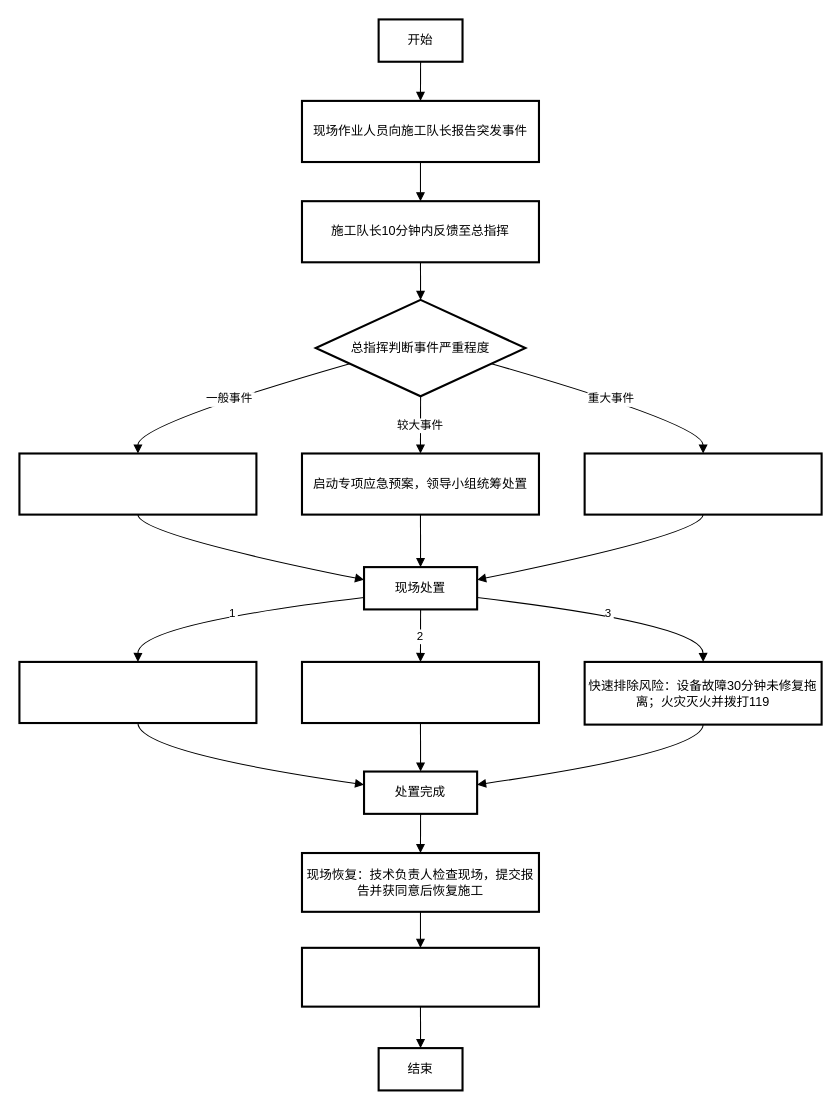
The diagram is 840 pixels wide and 1109 high, and some of its shapes have lost their labels. The centre of each missing label's shape, as x and y in pixels:
事件总结：24小时内召开会议，分析原因，提出措施，形成报告备案: pixel 419 976
优先保障人员安全：急救并拨打120: pixel 419 692
启动现场处置方案，施工队长组织处置: pixel 137 483
报告建设单位及机场协调小组，服从统一指挥: pixel 702 483
设立警戒区域：封闭现场，疏导撤离: pixel 137 692
